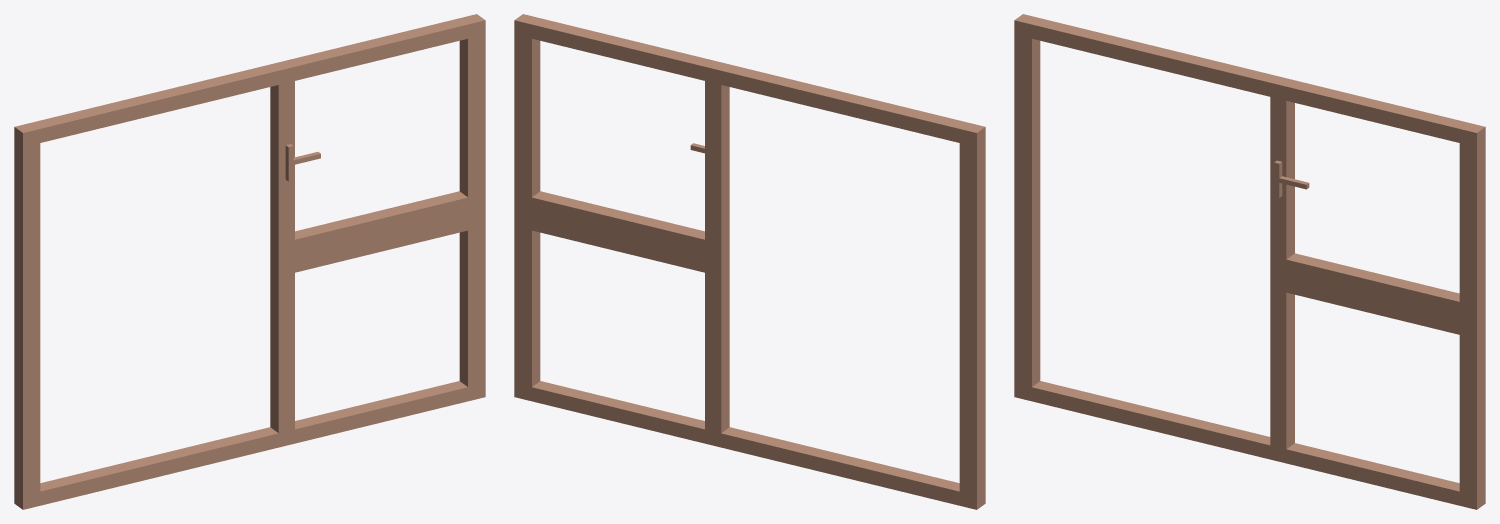
File: MDL_Windows_8.fbx
3 views of the same model, side by side, from view 1: azimuth 30°, elevation 25°; view 2: azimuth 150°, elevation 25°; view 3: azimuth 330°, elevation 25° (orthographic).
Parts seen in each view (by area): view 1: MDL_windows10_geo; view 2: MDL_windows10_geo; view 3: MDL_windows10_geo.
Boxes of the visible parts, left/top/right/bottom form: MDL_windows10_geo: left=14, top=14, right=485, bottom=509; MDL_windows10_geo: left=514, top=14, right=985, bottom=509; MDL_windows10_geo: left=1014, top=14, right=1485, bottom=509.
Size of the model in its own units: 136 by 106 by 5.84.
